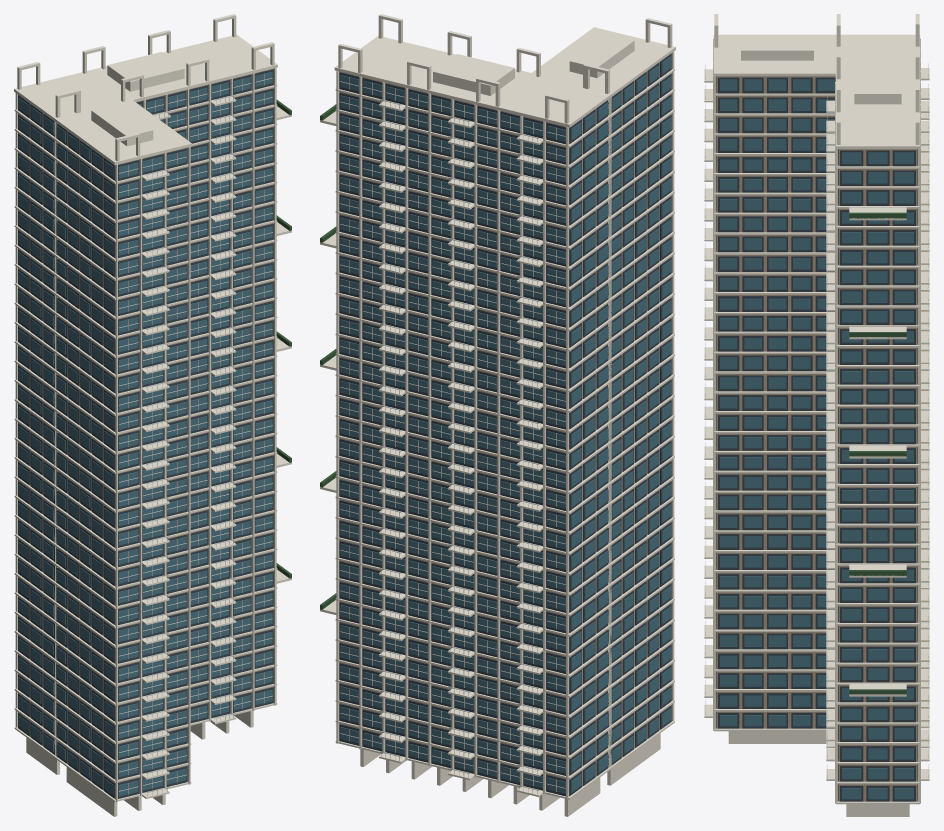
File: tower-g.glb
3 renders of one model, left to right at view 1: azimuth 30°, elevation 25°; view 2: azimuth 150°, elevation 25°; view 3: azimuth 270°, elevation 25°, orthographic. The views are drawn at different scales.
Parts seen in each view (by area): view 1: glass, ivory, dark, sand, rail, leaf; view 2: glass, ivory, dark, sand, rail; view 3: ivory, glass, dark, sand, leaf, rail.
Boxes of the visible parts, x1,y1,x2,y2 form: glass: [18, 72, 272, 796]; ivory: [14, 14, 291, 816]; dark: [18, 69, 273, 798]; sand: [18, 68, 273, 798]; rail: [146, 95, 235, 796]; leaf: [276, 99, 291, 578]; glass: [340, 56, 671, 793]; ivory: [320, 14, 675, 816]; dark: [339, 53, 671, 796]; sand: [339, 53, 671, 796]; rail: [379, 99, 539, 794]; ivory: [704, 14, 929, 816]; glass: [720, 79, 913, 799]; dark: [716, 76, 917, 801]; sand: [716, 76, 917, 801]; leaf: [849, 212, 906, 694]; rail: [705, 63, 928, 778].
Bounding box in the file's own units: 40.2 × 108 × 31.41.
